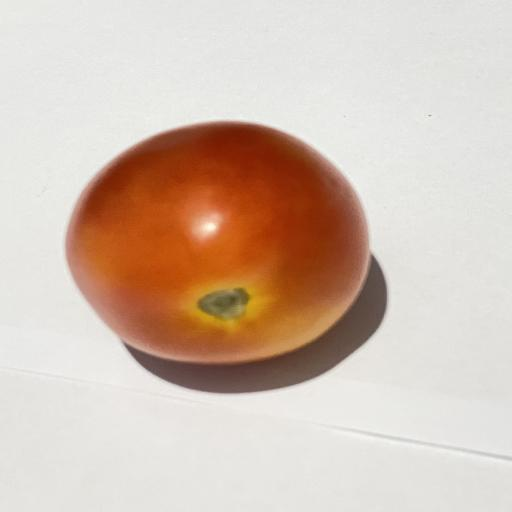ripe: (66, 122, 370, 364)
